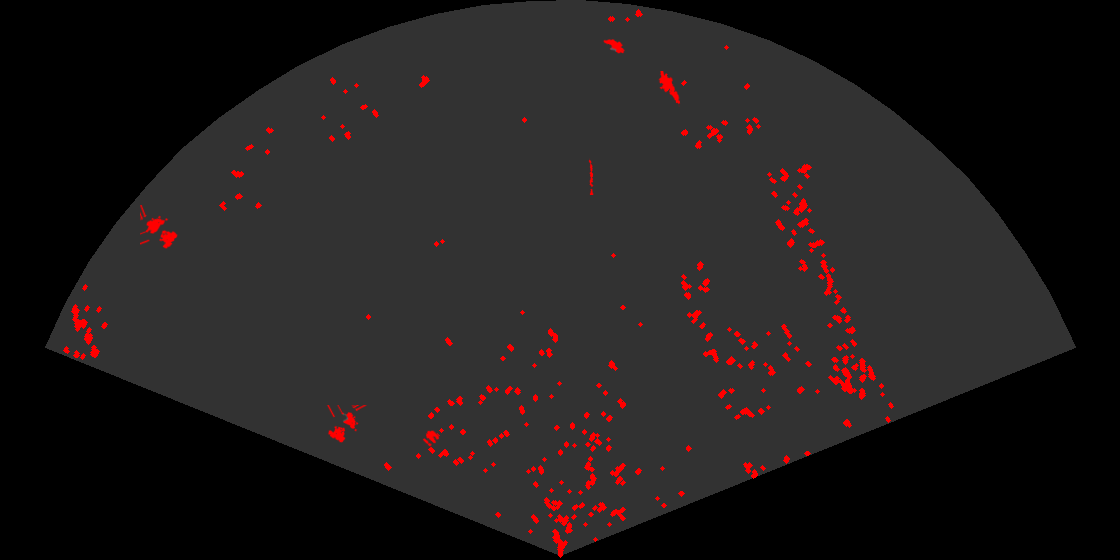AUV: (602, 38, 626, 55)
ball: (421, 429, 441, 448)
cage: (140, 205, 179, 250), (325, 405, 368, 444)
chain: (587, 158, 595, 195)
frogman: (657, 71, 681, 107)
